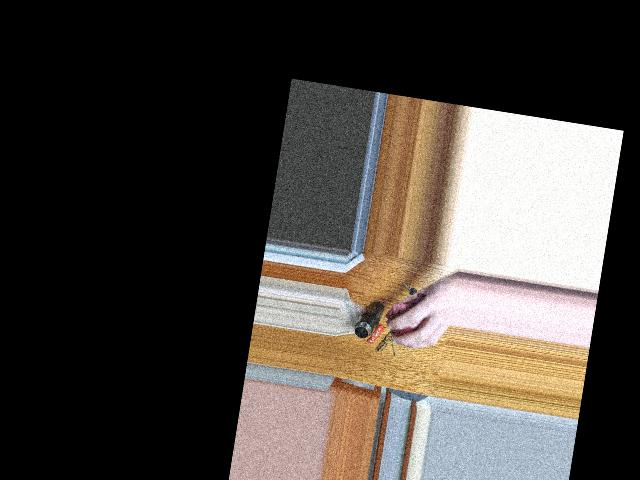onion: (388, 295, 426, 343)
